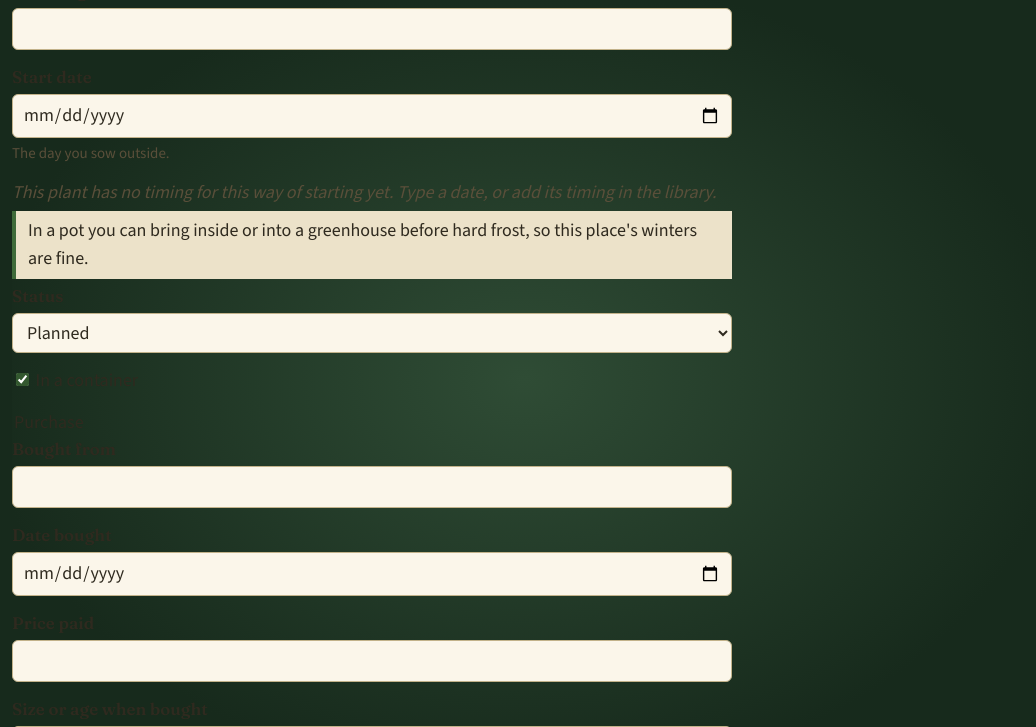
it: planting form for perennials › a tender plant in a pot gets the bring-it-inside note instead of the too-cold warning
The width and height of the screenshot is (1036, 727).
(page scrolled)
Expected: the text "In a pot you can bring inside" is shown, [28,218,697,270]
Expected: the text "probably too cold" is not shown
Click the checkbox labelled "In a container" at (22, 379), box [16,373,29,386]
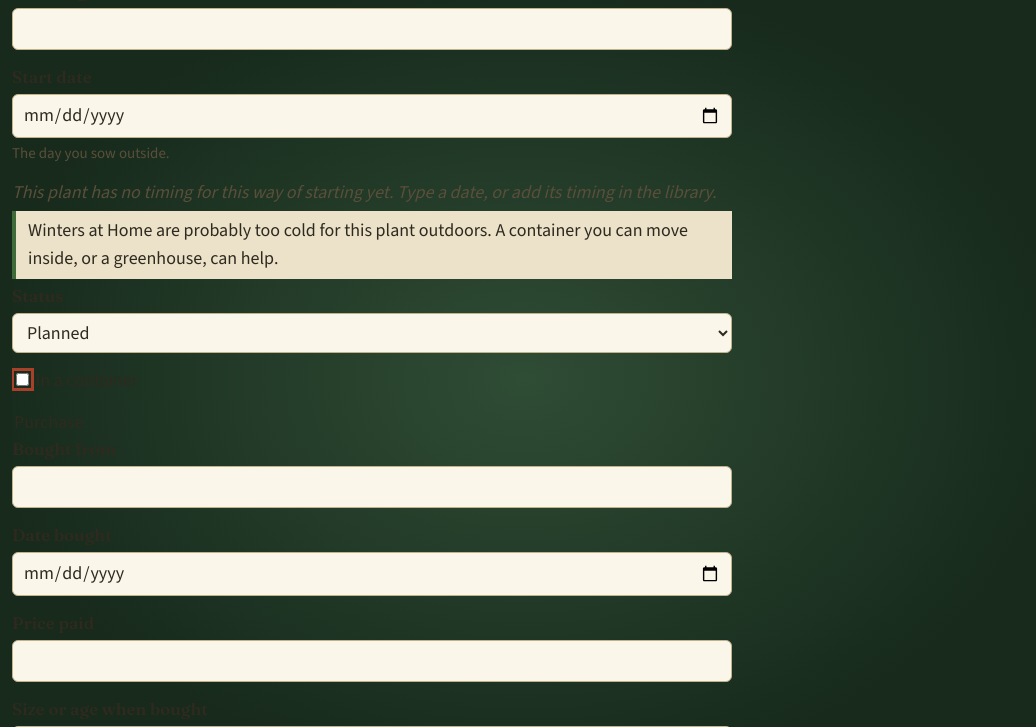
Now the text "probably too cold" is shown, box [28,218,688,270]
